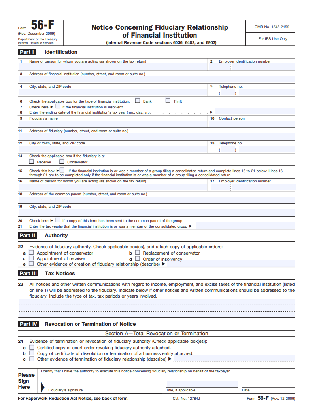checkbox: (27, 248, 35, 256), (27, 254, 35, 262), (27, 259, 35, 267), (28, 343, 36, 351), (28, 349, 36, 357), (28, 355, 36, 363), (165, 96, 172, 104), (55, 102, 62, 110), (59, 166, 66, 174), (54, 216, 61, 224), (134, 248, 141, 256), (133, 255, 141, 262), (134, 97, 141, 104), (28, 158, 35, 165), (58, 158, 65, 165)
textbox: (17, 189, 299, 206), (17, 201, 299, 218), (15, 126, 296, 142), (16, 70, 297, 85), (16, 82, 211, 98), (17, 113, 210, 129), (16, 138, 209, 154), (15, 177, 209, 192), (17, 57, 209, 72), (206, 82, 297, 99), (205, 138, 296, 155), (206, 176, 298, 192), (207, 57, 299, 73)
textline: (44, 377, 164, 395), (17, 313, 296, 320), (18, 306, 296, 313), (18, 300, 296, 306), (196, 220, 296, 230), (171, 356, 296, 363), (166, 262, 297, 268), (165, 381, 238, 389), (241, 382, 296, 389)
